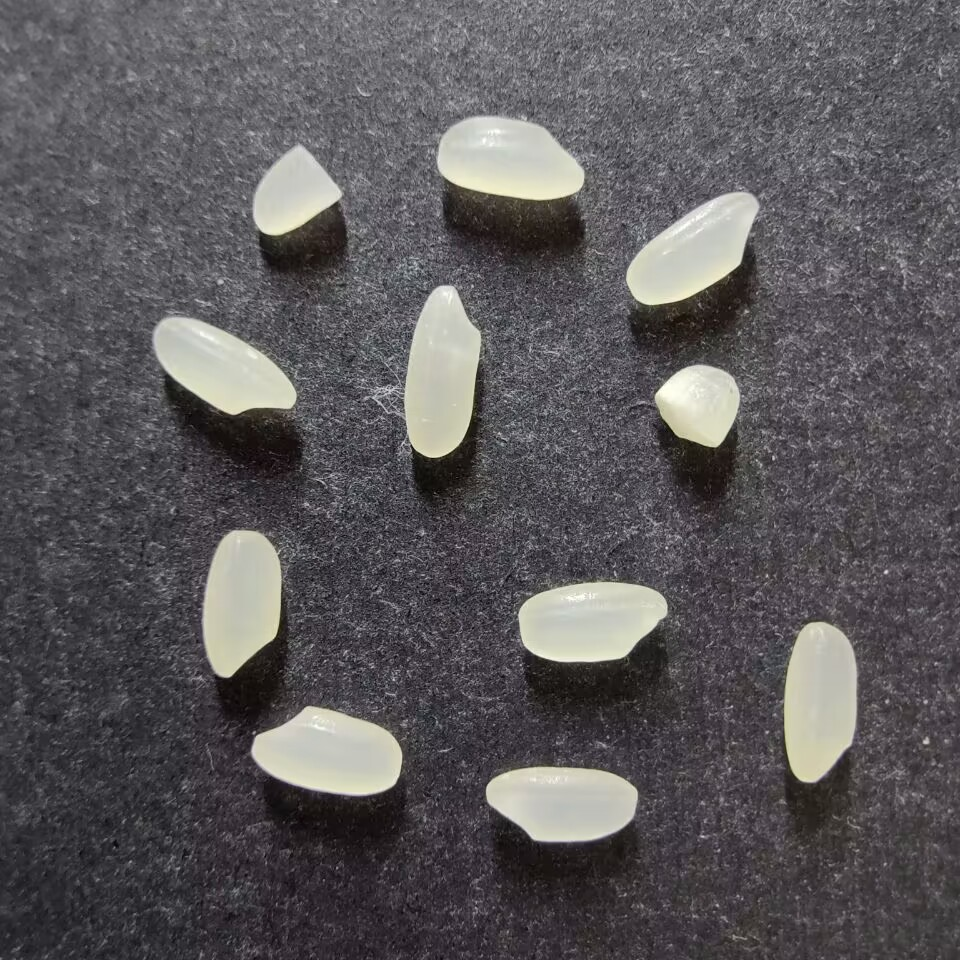broken: (251, 144, 342, 235), (653, 363, 740, 448)
rice: (625, 191, 759, 305), (151, 316, 297, 416), (251, 706, 402, 796), (403, 284, 481, 457), (782, 621, 858, 784), (436, 116, 585, 199), (517, 581, 668, 662), (201, 529, 282, 679), (484, 765, 638, 843)
